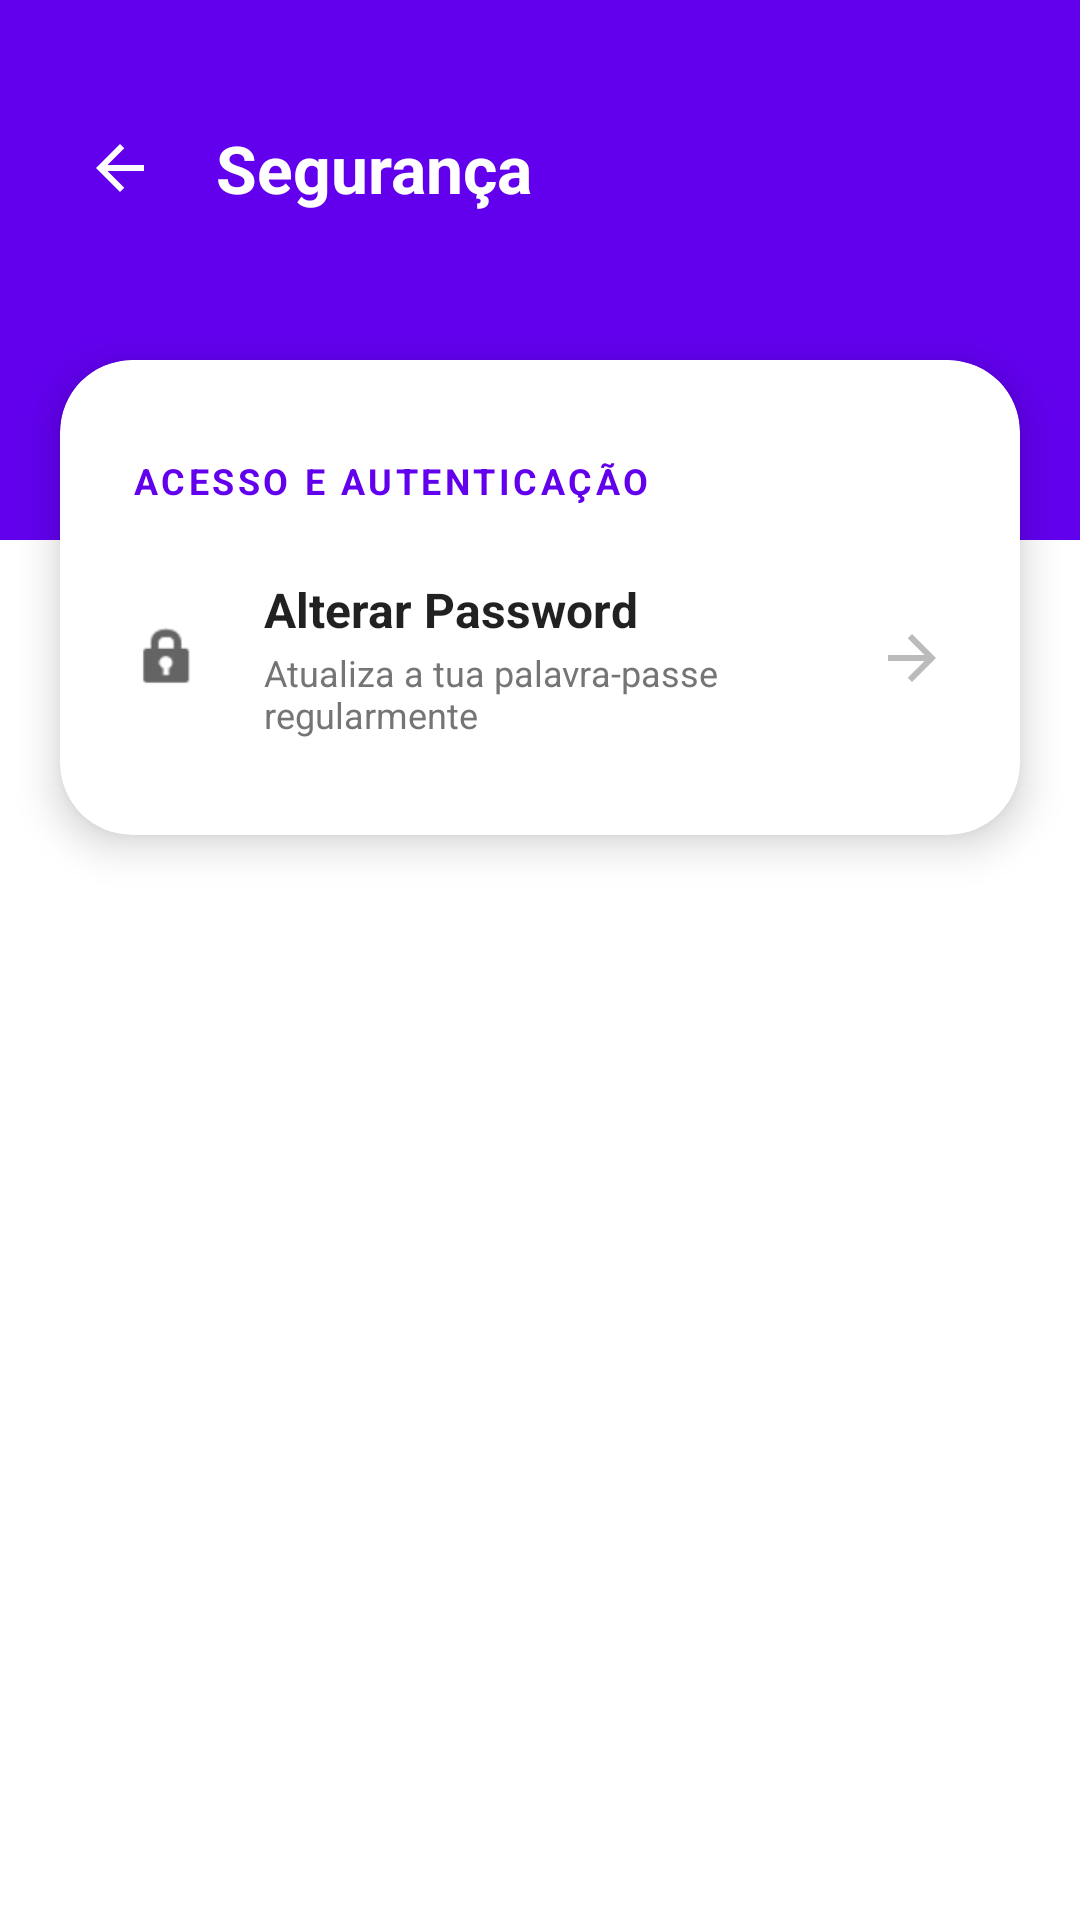

Where to tap for icons on this 1080 × 1920 app screen, as point (x, y):
lock idle: point (166, 655)
Voltar: point (120, 168)
